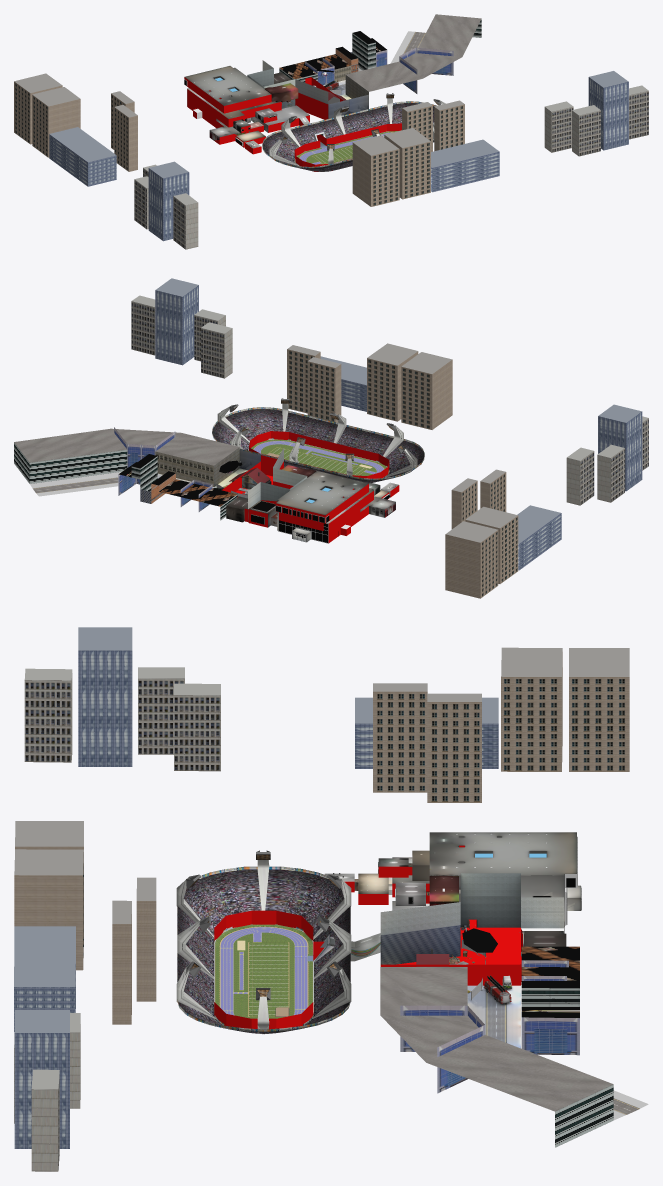
Rendered from college.glb.
The picture shows the model from 3 angles, top to bottom: view 1: azimuth 30°, elevation 25°; view 2: azimuth 150°, elevation 25°; view 3: azimuth 270°, elevation 25°; orthographic projection. The views are drawn at different scales.
Visible parts, largest first — view 1: BoltonCollege, Buildings__2_, Buildings__1_, BoltonCollege_PROXY, Buildings1; view 2: BoltonCollege, Buildings__2_, Buildings__1_, BoltonCollege_PROXY, Buildings1, Construction_House_1; view 3: BoltonCollege, Buildings__1_, Buildings__2_, BoltonCollege_PROXY, Buildings1.
Part boxes in pixels (box(x1,y1,x2,y2)): BoltonCollege: box(184, 14, 481, 171); Buildings__2_: box(352, 71, 648, 206); Buildings__1_: box(14, 73, 198, 249); BoltonCollege_PROXY: box(184, 77, 401, 171); Buildings1: box(279, 31, 387, 85); BoltonCollege: box(14, 398, 424, 543); Buildings__2_: box(131, 278, 452, 429); Buildings__1_: box(445, 404, 648, 598); BoltonCollege_PROXY: box(222, 431, 399, 542); Buildings1: box(118, 454, 237, 520); Construction_House_1: box(229, 467, 271, 489); BoltonCollege: box(176, 832, 648, 1147); Buildings__1_: box(24, 627, 629, 802); Buildings__2_: box(14, 821, 156, 1171); BoltonCollege_PROXY: box(214, 845, 522, 1029); Buildings1: box(521, 946, 579, 1055).
Size of what is drawn, in the model's own units: 234 by 32.75 by 146.
782 materials, 414 textured.
